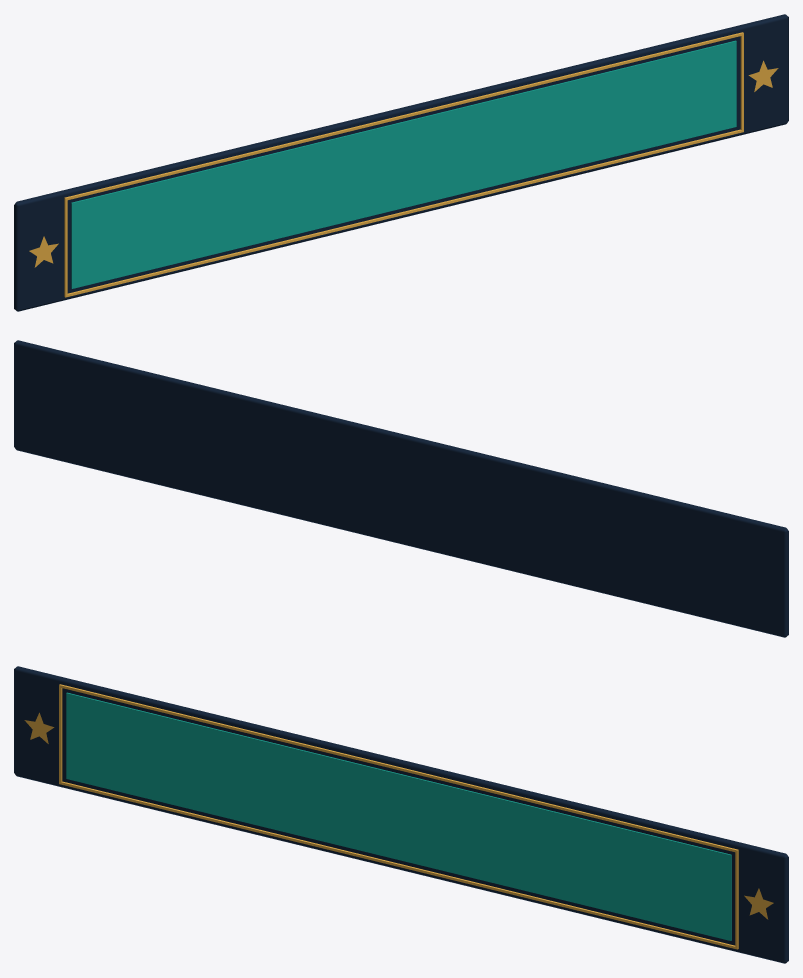
Rendered from CM_Shell_SignBoard.fbx.
3 views of the same model, one above another, from view 1: azimuth 30°, elevation 25°; view 2: azimuth 150°, elevation 25°; view 3: azimuth 330°, elevation 25° (orthographic).
Visible parts, largest first — view 1: Face, Body, Neon; view 2: Body; view 3: Face, Body, Neon.
Boxes of the visible parts, x1,y1,x2,y2 form: Face: (71,40,736,288); Body: (14,14,788,311); Neon: (64,32,743,297); Body: (14,340,788,637); Face: (66,692,731,940); Body: (14,666,788,963); Neon: (59,684,738,949).
Size of the model in its own units: 34 by 0.4 by 4.6.
1 material, 1 textured.
